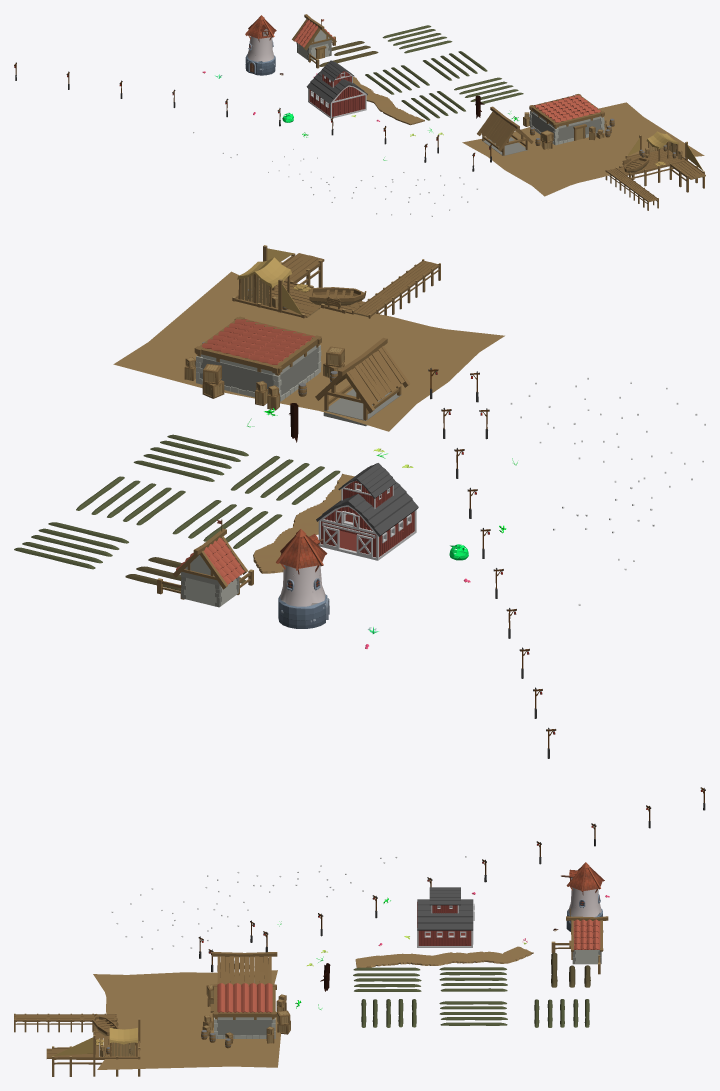
Rendered from chunk_2_0.glb.
3 renders of one model, top to bottom at view 1: azimuth 30°, elevation 25°; view 2: azimuth 150°, elevation 25°; view 3: azimuth 270°, elevation 25°, orthographic. The views are drawn at different scales.
Visible parts, largest first — view 1: Plane, Storage_SecondAge_Level1, Port_FirstAge_Level2, BigBarn_Cube.034, Farm_SecondAge_Level1, Houses_FirstAge_1_Level2, Mill-wind, Cube.031, Farm_Dirt_Level1, Farm_Dirt_Level1.003, Farm_Dirt_Level1.004, Farm_Dirt_Level1.001 (+2 smaller); view 2: Plane, Storage_SecondAge_Level1, BigBarn_Cube.034, Port_FirstAge_Level2, Farm_SecondAge_Level1, Houses_FirstAge_1_Level2, Mill-wind, Farm_Dirt_Level1, Cube.031, Farm_Dirt_Level1.003, Farm_Dirt_Level1.004, Farm_Dirt_Level1.001 (+2 smaller); view 3: Plane, Storage_SecondAge_Level1, BigBarn_Cube.034, Port_FirstAge_Level2, Farm_SecondAge_Level1, Cube.031, Houses_FirstAge_1_Level2, Mill-wind, Farm_Dirt_Level1.001, Farm_Dirt_Level1.004, Farm_Dirt_Level1.002, Farm_Dirt_Level1 (+2 smaller).
Part boxes in pixels (x1,y1,x2,y2): Plane: [462, 102, 704, 196]; Storage_SecondAge_Level1: [523, 94, 614, 149]; Port_FirstAge_Level2: [617, 131, 705, 192]; BigBarn_Cube.034: [306, 60, 367, 118]; Farm_SecondAge_Level1: [292, 14, 378, 68]; Houses_FirstAge_1_Level2: [477, 106, 533, 155]; Mill-wind: [245, 15, 276, 75]; Cube.031: [353, 76, 424, 125]; Farm_Dirt_Level1: [382, 25, 452, 53]; Farm_Dirt_Level1.003: [454, 77, 523, 105]; Farm_Dirt_Level1.004: [401, 91, 465, 120]; Farm_Dirt_Level1.001: [423, 51, 487, 80]; Plane: [113, 271, 504, 431]; Storage_SecondAge_Level1: [184, 316, 344, 410]; BigBarn_Cube.034: [316, 463, 418, 560]; Port_FirstAge_Level2: [232, 245, 366, 318]; Farm_SecondAge_Level1: [125, 519, 253, 607]; Houses_FirstAge_1_Level2: [315, 337, 410, 426]; Mill-wind: [276, 529, 329, 628]; Farm_Dirt_Level1: [14, 522, 128, 569]; Cube.031: [253, 473, 354, 573]; Farm_Dirt_Level1.003: [133, 434, 248, 481]; Farm_Dirt_Level1.004: [230, 455, 340, 504]; Farm_Dirt_Level1.001: [76, 476, 185, 525]; Plane: [93, 970, 280, 1069]; Storage_SecondAge_Level1: [201, 983, 290, 1048]; BigBarn_Cube.034: [417, 887, 473, 947]; Port_FirstAge_Level2: [46, 1014, 140, 1076]; Farm_SecondAge_Level1: [551, 908, 608, 987]; Cube.031: [355, 946, 533, 967]; Houses_FirstAge_1_Level2: [212, 952, 277, 984]; Mill-wind: [561, 862, 604, 931]; Farm_Dirt_Level1.001: [439, 1001, 507, 1025]; Farm_Dirt_Level1.004: [353, 967, 421, 991]; Farm_Dirt_Level1.002: [439, 967, 507, 991]; Farm_Dirt_Level1: [534, 999, 589, 1027].
Size of the model in its own units: 102 by 14.85 by 114.
31 materials, 2 textured.
